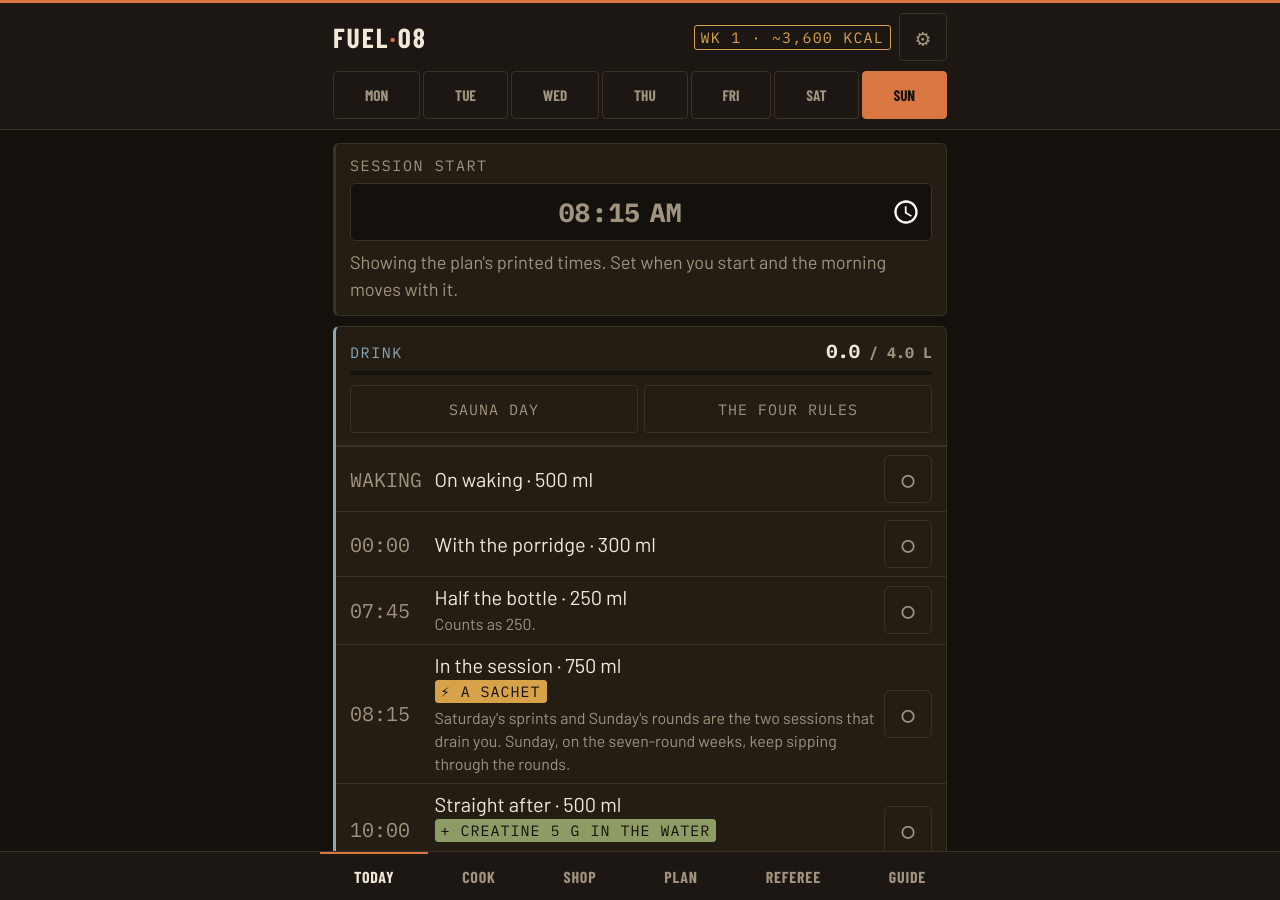
Scenario: Fuel · Optimal 8 Fighter › takes the prep checklist from the document
The width and height of the screenshot is (1280, 900).
Click the button "COOK" at coordinates (479, 876), box [428,852,530,899]
(page scrolled)
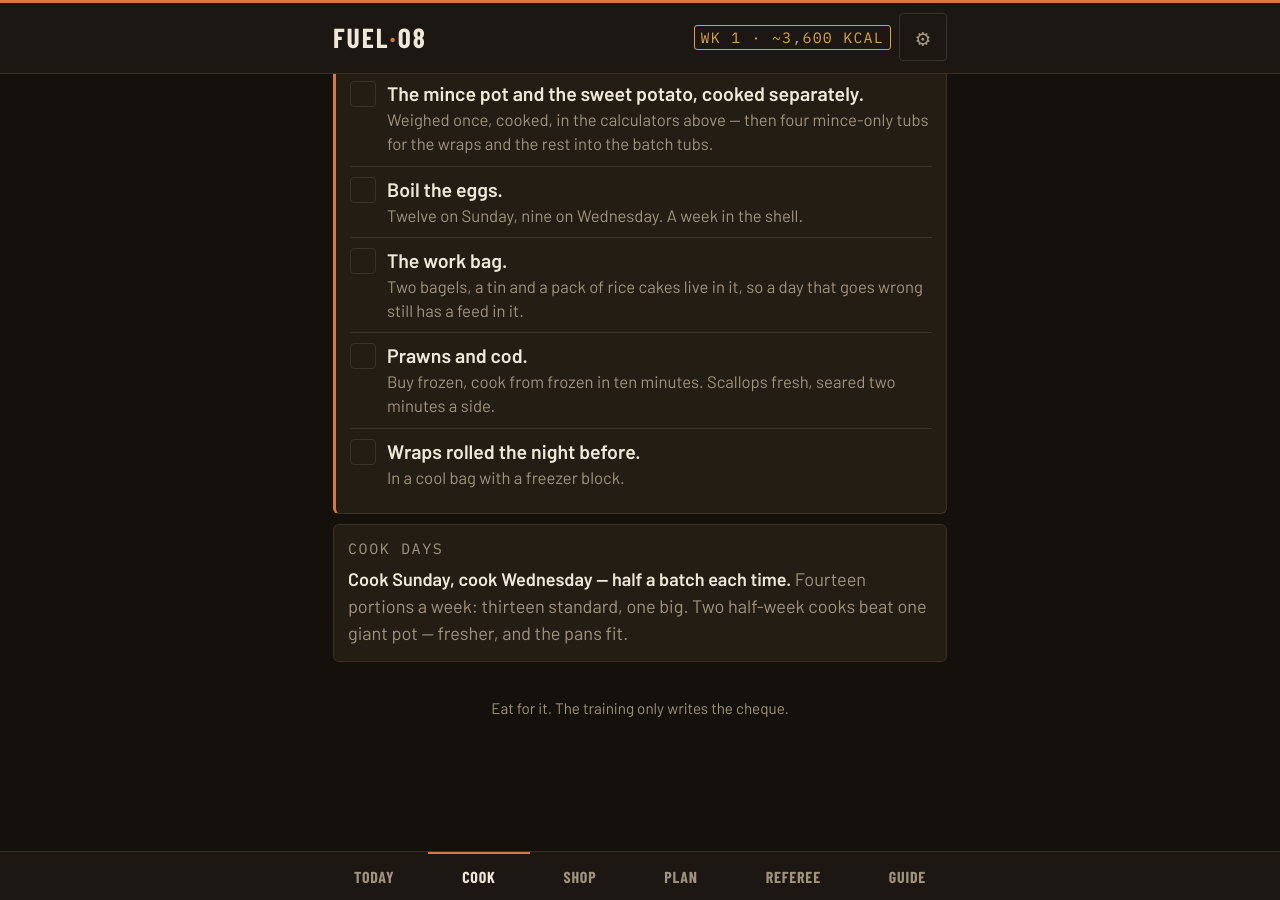
Now the text "Boil the eggs." is shown, box [387,177,503,201]
Now the text "Prawns and cod." is shown, box [387,343,528,367]
Now the text "Wraps rolled the night before." is shown, box [387,438,641,462]
